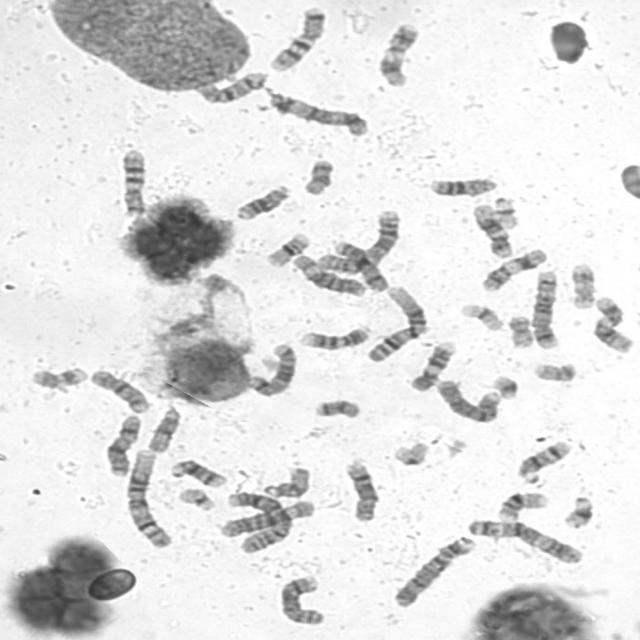A1: (121, 446, 175, 550), (362, 282, 430, 364)
A2: (313, 206, 404, 274), (221, 489, 295, 555)
A3: (462, 515, 586, 566), (263, 89, 371, 138)
B4: (389, 533, 477, 609), (431, 376, 504, 425)
B5: (243, 340, 299, 398), (527, 268, 562, 350)
C10: (86, 366, 152, 414), (192, 71, 270, 104)
C11: (477, 245, 550, 293), (373, 19, 422, 88)
C12: (590, 293, 636, 354), (468, 201, 514, 258)
C6: (214, 496, 317, 538), (288, 250, 370, 298)
C7: (264, 3, 329, 73), (115, 145, 148, 218)
C8: (275, 572, 326, 627), (340, 457, 380, 523)
C9: (407, 337, 459, 392), (295, 324, 371, 352)
D13: (232, 181, 292, 221), (426, 173, 500, 198)
D14: (513, 437, 572, 483), (166, 456, 228, 489)
D15: (144, 404, 183, 454), (260, 464, 312, 499)
E16: (493, 488, 551, 523), (261, 230, 312, 268)
E17: (566, 259, 598, 310), (28, 364, 88, 389)
E18: (299, 156, 336, 196), (310, 396, 363, 420)
F19: (456, 300, 506, 332), (389, 440, 431, 468)
F20: (504, 312, 536, 350), (529, 358, 579, 382)
G21: (559, 492, 596, 530), (488, 371, 520, 400)
G22: (174, 485, 218, 512), (492, 196, 520, 230)
X: (329, 236, 390, 294), (100, 411, 143, 478)
